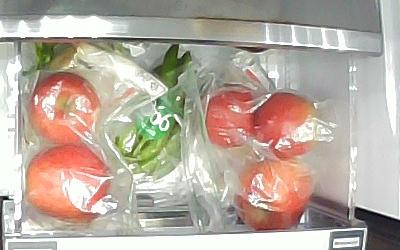apple_vinyl: (24, 145, 113, 224), (232, 156, 314, 231), (30, 72, 102, 147), (256, 91, 320, 158), (205, 84, 255, 149)
